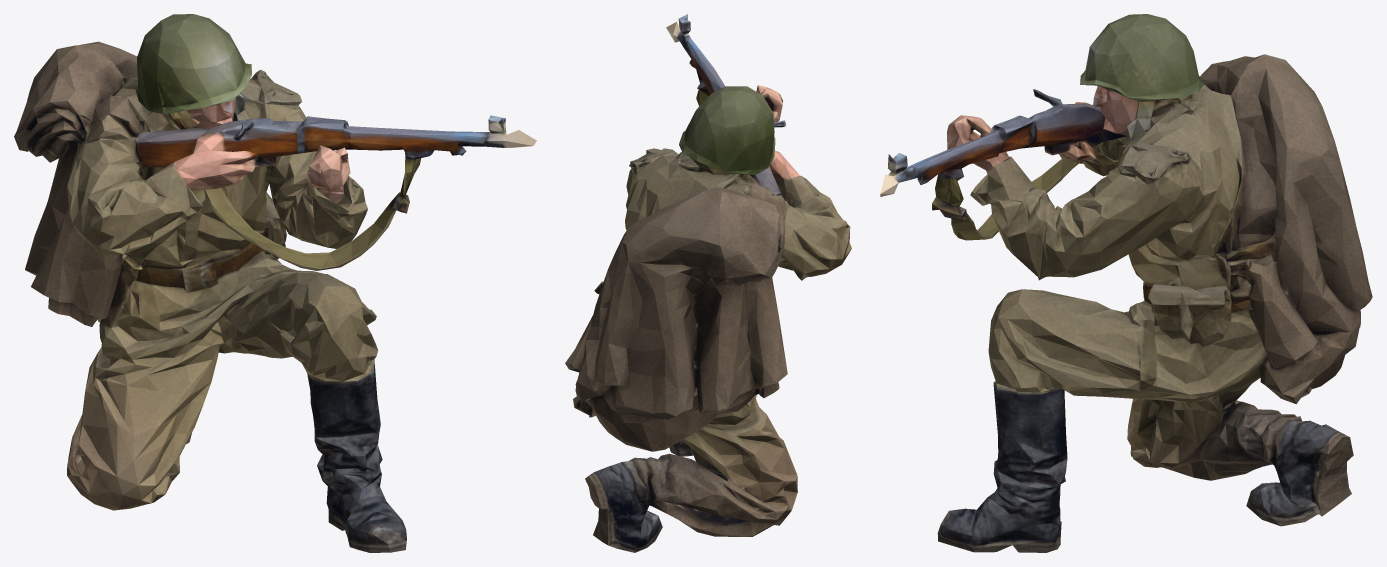
Rendered from ally_su_kneel.obj.
The picture shows the model from 3 angles, left to right: view 1: azimuth 30°, elevation 25°; view 2: azimuth 150°, elevation 25°; view 3: azimuth 270°, elevation 25°; orthographic projection. The views are drawn at different scales.
Visible parts, largest first — view 1: ally_su_kneel; view 2: ally_su_kneel; view 3: ally_su_kneel.
Boxes of the visible parts, left/top/right/bottom form: ally_su_kneel: left=14, top=14, right=536, bottom=552; ally_su_kneel: left=565, top=14, right=851, bottom=552; ally_su_kneel: left=880, top=14, right=1372, bottom=552.
Bounding box in the file's own units: 0.9247 × 1.3 × 1.22.
Materials: 1 (1 with a texture image).
